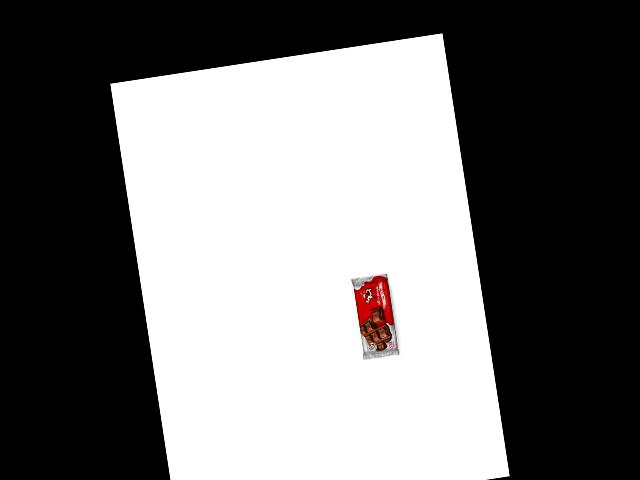chocolate: (350, 272, 400, 362)
